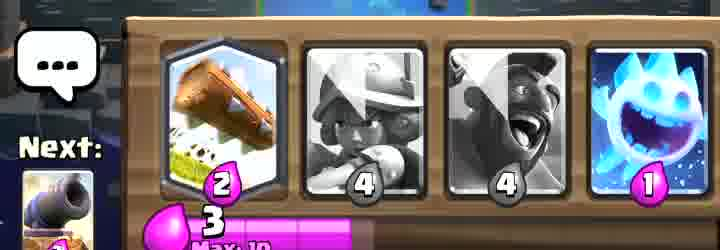cannon: (22, 171, 94, 250)
hog-rider: (442, 63, 536, 204)
ice-spirit: (595, 45, 710, 199)
log: (168, 42, 280, 186)
